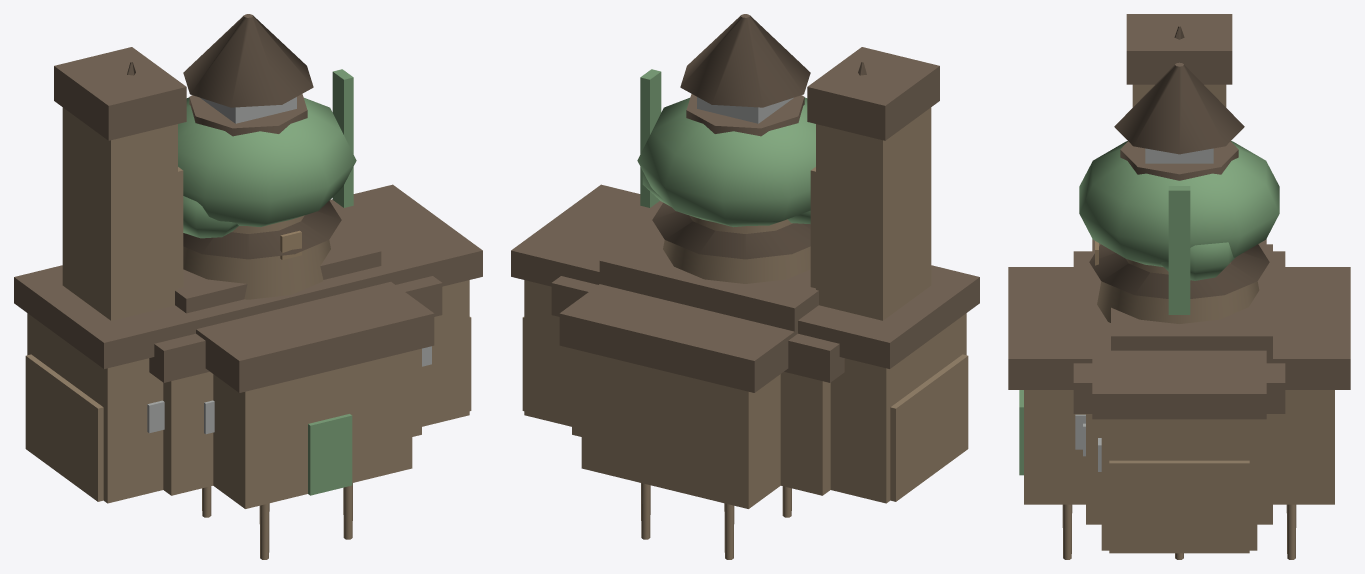
The model's file is props.glb.
The picture shows the model from 3 angles, left to right: view 1: azimuth 30°, elevation 25°; view 2: azimuth 150°, elevation 25°; view 3: azimuth 270°, elevation 25°; orthographic projection. The views are drawn at different scales.
Parts seen in each view (by area): view 1: horror_asylum, horror_chapel, horror_manor, worldtree, horror_lighthouse, horror_mill, pirate_dock; view 2: horror_asylum, horror_chapel, horror_manor, worldtree, horror_lighthouse, horror_mill, pirate_dock; view 3: horror_chapel, horror_asylum, horror_manor, worldtree, horror_mill, horror_lighthouse, pirate_dock.
Part boxes in pixels (<box>): horror_asylum: <box>14,47,482,503</box>; horror_chapel: <box>127,61,434,508</box>; horror_manor: <box>25,222,471,501</box>; worldtree: <box>178,97,356,238</box>; horror_lighthouse: <box>183,14,313,259</box>; horror_mill: <box>183,69,353,299</box>; pirate_dock: <box>202,483,352,559</box>; horror_asylum: <box>511,47,979,503</box>; horror_chapel: <box>559,61,866,508</box>; horror_manor: <box>522,222,968,501</box>; worldtree: <box>637,97,815,227</box>; horror_lighthouse: <box>680,14,810,233</box>; horror_mill: <box>640,69,810,283</box>; pirate_dock: <box>641,483,791,559</box>; horror_chapel: <box>1008,26,1350,504</box>; horror_asylum: <box>1092,14,1266,550</box>; horror_manor: <box>1073,244,1285,553</box>; worldtree: <box>1079,141,1279,280</box>; horror_mill: <box>1089,186,1269,323</box>; horror_lighthouse: <box>1095,62,1244,274</box>; pirate_dock: <box>1062,504,1296,559</box>.
Size of the model in its own units: 13.6 by 16.8 by 11.
